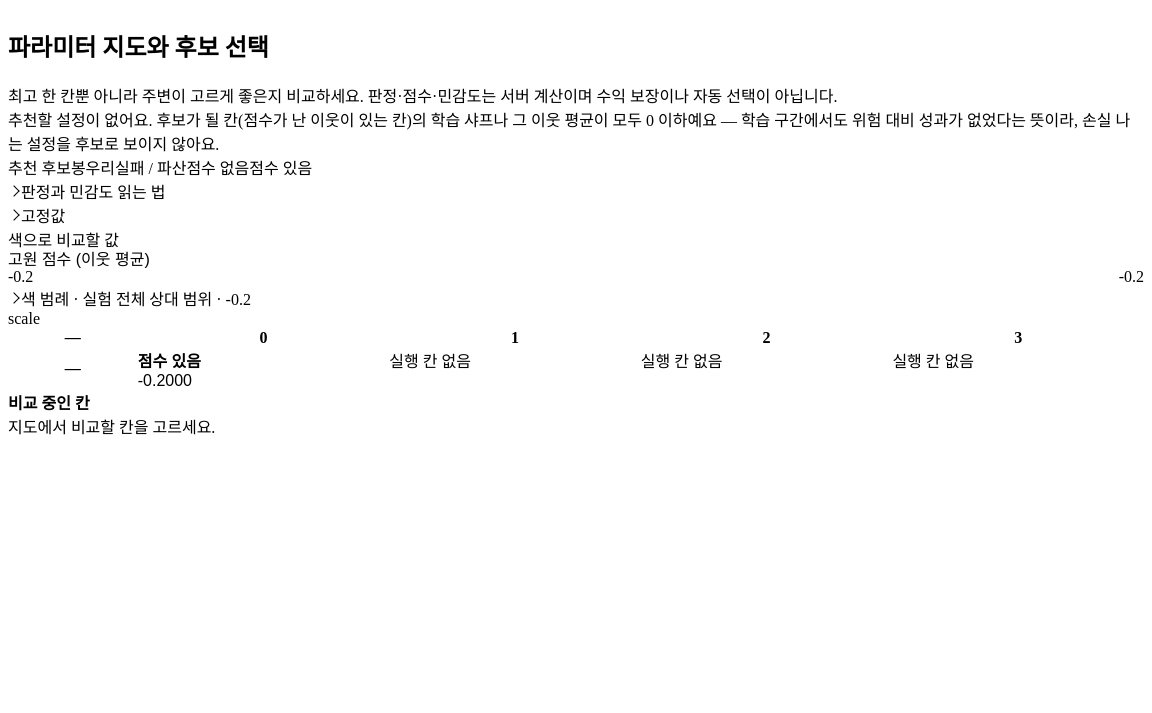
Test: 파라미터 지도와 명시적 후보 선택 › 점수가 0 이하인 지도는 서버의 추천 없음 사유를 보이고 0을 점수 없음으로 바꾸지 않는다
The image size is (1152, 713).
Click the button with aria-label "scale 0 · 점수 있음".
click(264, 369)  # box [138, 348, 389, 390]
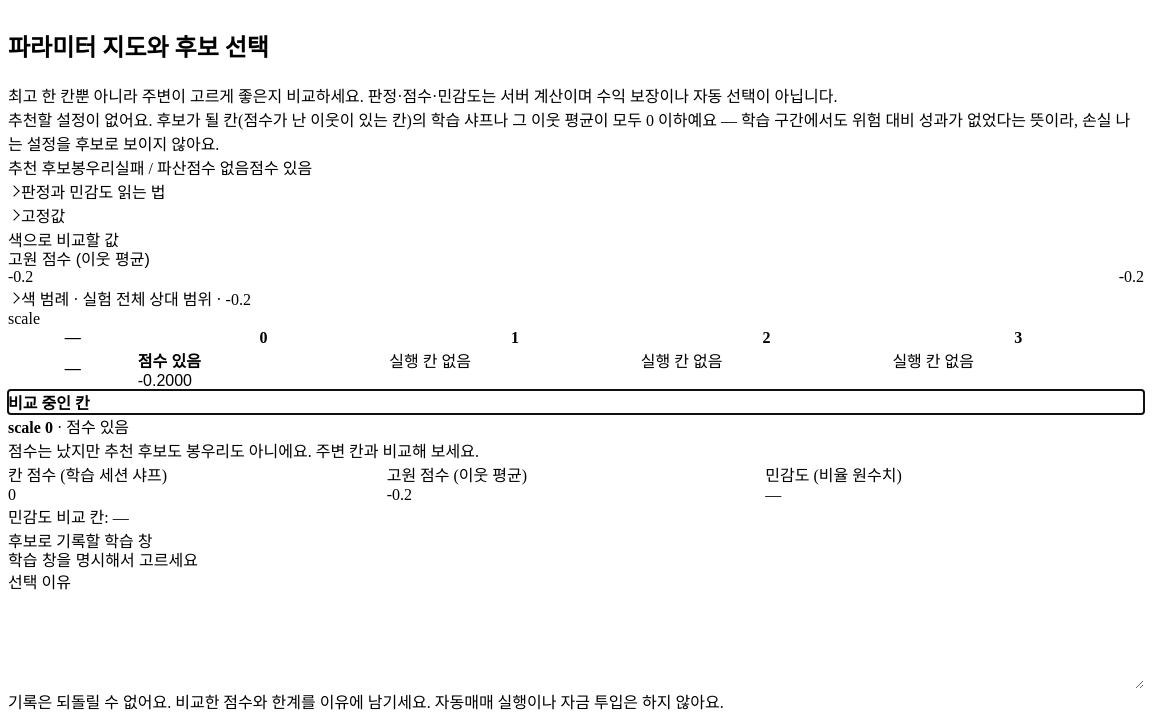
Now the text "0" is shown, box [8, 486, 16, 503]
